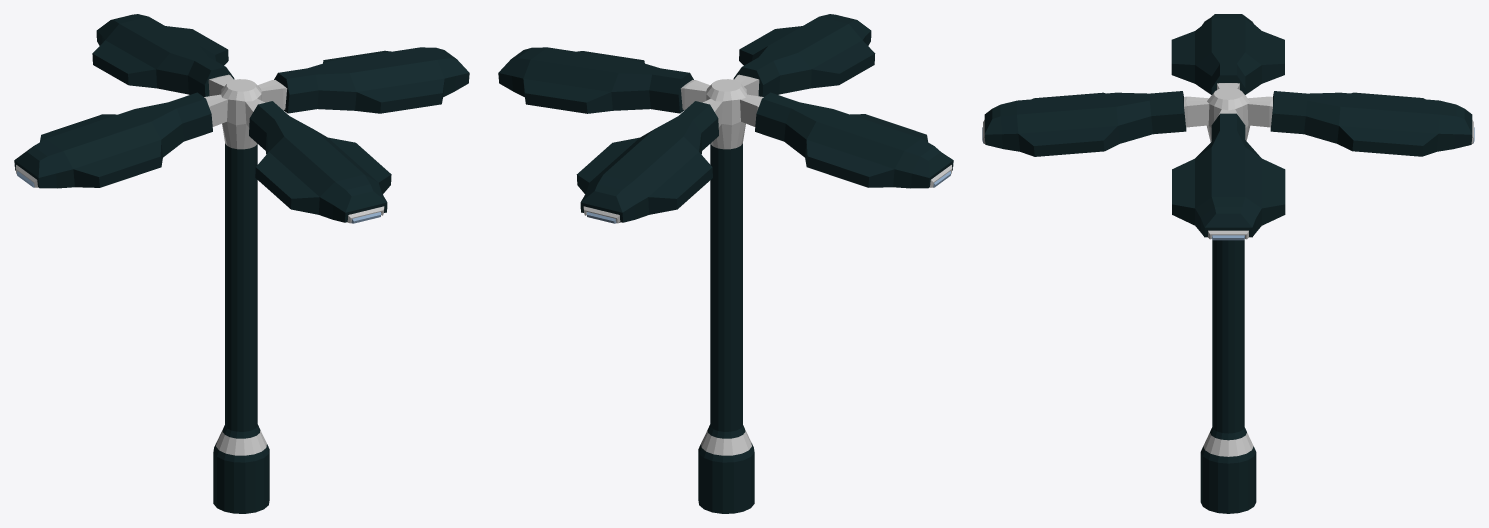
File: Светильник улица.obj
3 views of the same model, side by side, from view 1: azimuth 30°, elevation 25°; view 2: azimuth 150°, elevation 25°; view 3: azimuth 270°, elevation 25° (orthographic). The views are drawn at different scales.
Visible parts, largest first — view 1: Cylinder, Cube_Cube.001, Cube.003_Cube.004, Cube.001_Cube.002, Cube.002_Cube.003; view 2: Cylinder, Cube_Cube.001, Cube.002_Cube.003, Cube.001_Cube.002, Cube.003_Cube.004; view 3: Cylinder, Cube.002_Cube.003, Cube.003_Cube.004, Cube.001_Cube.002, Cube_Cube.001.
Part boxes in pixels (x1,y1,x2,y2): Cylinder: (204,74,287,513); Cube_Cube.001: (14,92,212,188); Cube.003_Cube.004: (249,101,391,223); Cube.001_Cube.002: (274,47,469,113); Cube.002_Cube.003: (92,14,234,96); Cylinder: (680,74,763,513); Cube_Cube.001: (755,92,953,188); Cube.002_Cube.003: (576,101,718,223); Cube.001_Cube.002: (498,47,693,113); Cube.003_Cube.004: (733,14,875,96); Cylinder: (1184,83,1272,513); Cube.002_Cube.003: (1270,91,1474,156); Cube.003_Cube.004: (982,91,1186,156); Cube.001_Cube.002: (1172,113,1285,240); Cube_Cube.001: (1171,14,1284,94).
Size of the model in its own units: 17.71 by 16.22 by 17.71.
